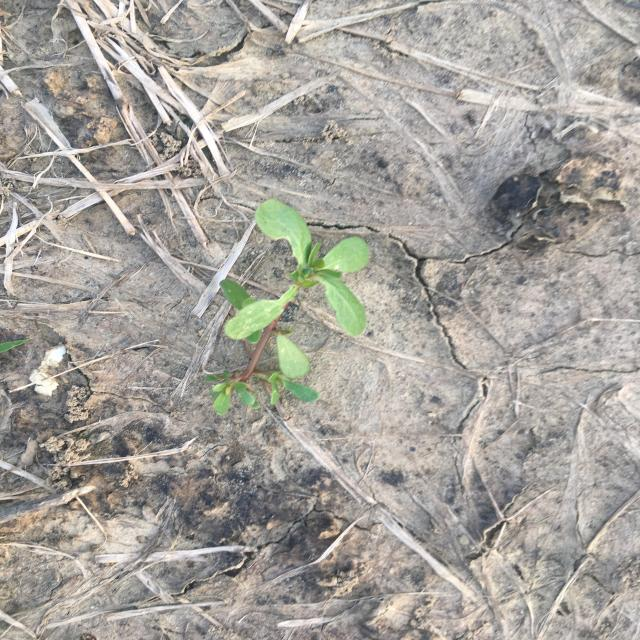Purslane: (198, 197, 373, 417)
